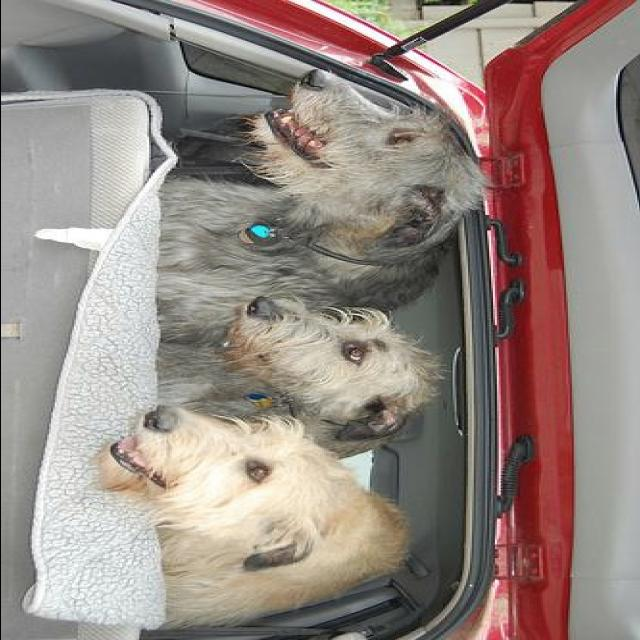irish_wolfhound: (144, 66, 484, 340), (87, 403, 413, 629), (152, 290, 452, 462)
